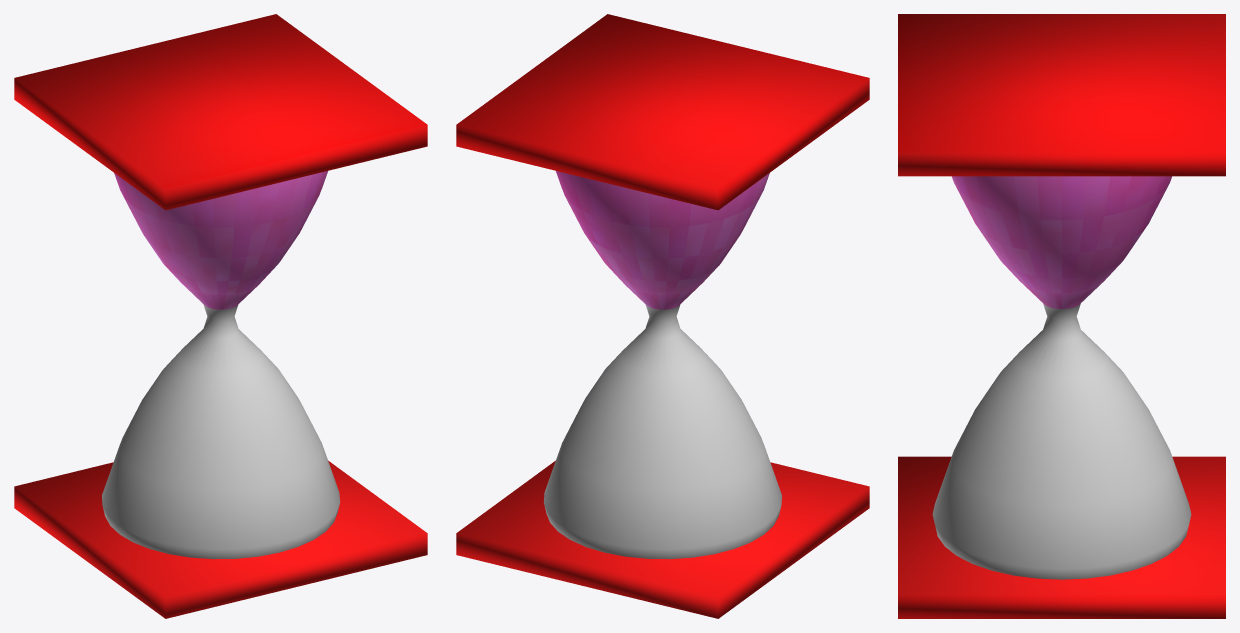
Rendered from ampulheta.fbx.
The picture shows the model from 3 angles, left to right: view 1: azimuth 30°, elevation 25°; view 2: azimuth 150°, elevation 25°; view 3: azimuth 270°, elevation 25°; orthographic projection. The views are drawn at different scales.
Parts seen in each view (by area): view 1: Cylinder_001; view 2: Cylinder_001; view 3: Cylinder_001.
Part boxes in pixels (box(x1,y1,x2,y2)): Cylinder_001: box(14, 14, 427, 618); Cylinder_001: box(456, 14, 869, 618); Cylinder_001: box(898, 14, 1225, 618).
Bounding box in the file's own units: 3.8 × 5.97 × 3.8.
